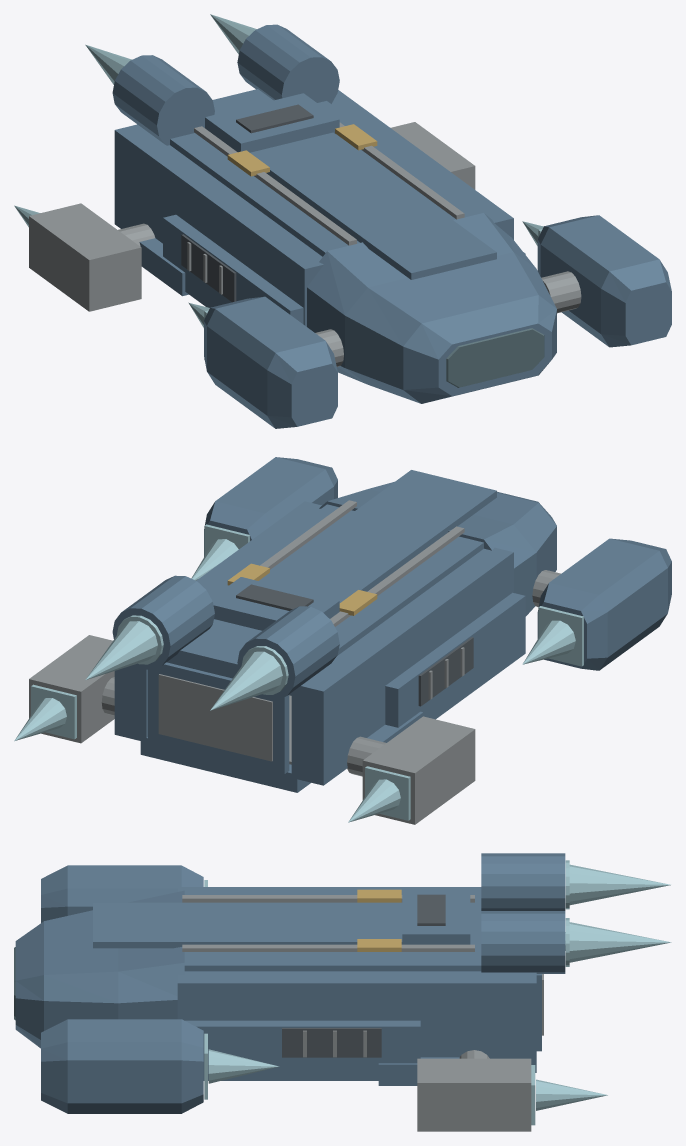
File: shipit_blue_flight.glb
3 views of the same model, one above another, from view 1: azimuth 30°, elevation 25°; view 2: azimuth 150°, elevation 25°; view 3: azimuth 270°, elevation 25° (orthographic). The views are drawn at different scales.
Parts seen in each view (by area): view 1: body_0, engine_L_pivot_housing, engine_R_pivot_housing, rear_L_pivot_housing, body_1, body_2, body_4, rear_R_pivot_housing, body_5, body_3; view 2: body_0, engine_L_pivot_housing, rear_L_pivot_housing, cargo_ramp_detail, engine_R_pivot_housing, body_5, body_1, rear_R_pivot_housing, cargo_ramp_panel, body_4, engine_L_pivot_jet, engine_L_pivot_nozzle (+7 smaller); view 3: body_0, engine_R_pivot_housing, rear_R_pivot_housing, engine_L_pivot_housing, body_5, body_1, body_4, engine_R_pivot_jet, body_3, rear_R_pivot_jet, cargo_ramp_panel.
Part boxes in pixels (x1,y1,x2,y2): body_0: (112, 24, 556, 403); engine_L_pivot_housing: (204, 296, 337, 428); engine_R_pivot_housing: (537, 215, 671, 347); rear_L_pivot_housing: (29, 203, 141, 311); body_1: (118, 122, 581, 366); body_2: (446, 328, 544, 387); body_4: (181, 104, 313, 302); rear_R_pivot_housing: (390, 122, 475, 189); body_5: (85, 14, 256, 84); body_3: (227, 124, 377, 176); body_0: (112, 470, 556, 792); engine_L_pivot_housing: (537, 538, 671, 670); rear_L_pivot_housing: (362, 716, 475, 824); cargo_ramp_detail: (158, 674, 272, 761); engine_R_pivot_housing: (204, 457, 337, 556); body_5: (85, 615, 288, 710); body_1: (101, 500, 560, 776); rear_R_pivot_housing: (29, 635, 114, 743); cargo_ramp_panel: (148, 662, 289, 774); body_4: (236, 584, 473, 706); engine_L_pivot_jet: (522, 620, 575, 664); engine_L_pivot_nozzle: (538, 606, 583, 666); body_0: (15, 853, 565, 1085); engine_R_pivot_housing: (41, 1019, 203, 1113); rear_R_pivot_housing: (417, 1058, 531, 1131); engine_L_pivot_housing: (41, 865, 203, 922); body_5: (565, 860, 671, 966); body_1: (182, 895, 489, 1058); body_4: (282, 894, 445, 1057); engine_R_pivot_jet: (208, 1049, 278, 1083); body_3: (357, 889, 401, 951); rear_R_pivot_jet: (536, 1079, 607, 1110); cargo_ramp_panel: (536, 974, 541, 1051).
Bounding box in the file's own units: 2.76 × 1.1 × 4.16.
